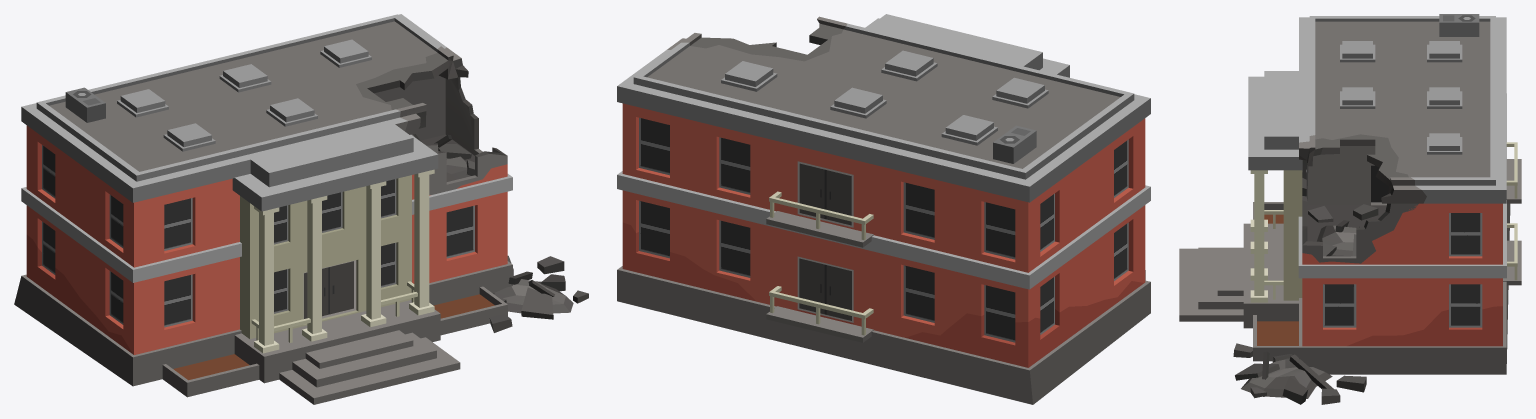
The model's file is SA_Bld_TownHall_Damaged_01.glb.
The picture shows the model from 3 angles, left to right: view 1: azimuth 30°, elevation 25°; view 2: azimuth 150°, elevation 25°; view 3: azimuth 270°, elevation 25°; orthographic projection. The views are drawn at different scales.
Visible parts, largest first — view 1: SA_Bld_TownHall_Damaged_01; view 2: SA_Bld_TownHall_Damaged_01; view 3: SA_Bld_TownHall_Damaged_01.
Part boxes in pixels (box(x1,y1,x2,y2)): SA_Bld_TownHall_Damaged_01: box(14, 14, 588, 404); SA_Bld_TownHall_Damaged_01: box(617, 14, 1150, 404); SA_Bld_TownHall_Damaged_01: box(1179, 14, 1521, 404).
Size of the model in its own units: 13.88 by 6.64 by 9.86.
Materials: 1 (1 with a texture image).
